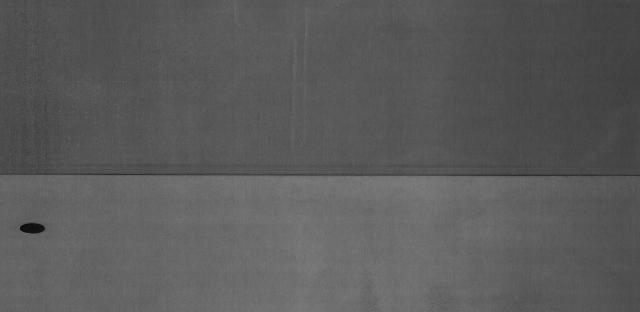punching_hole: (16, 218, 51, 239)
welding_line: (1, 165, 640, 189)
